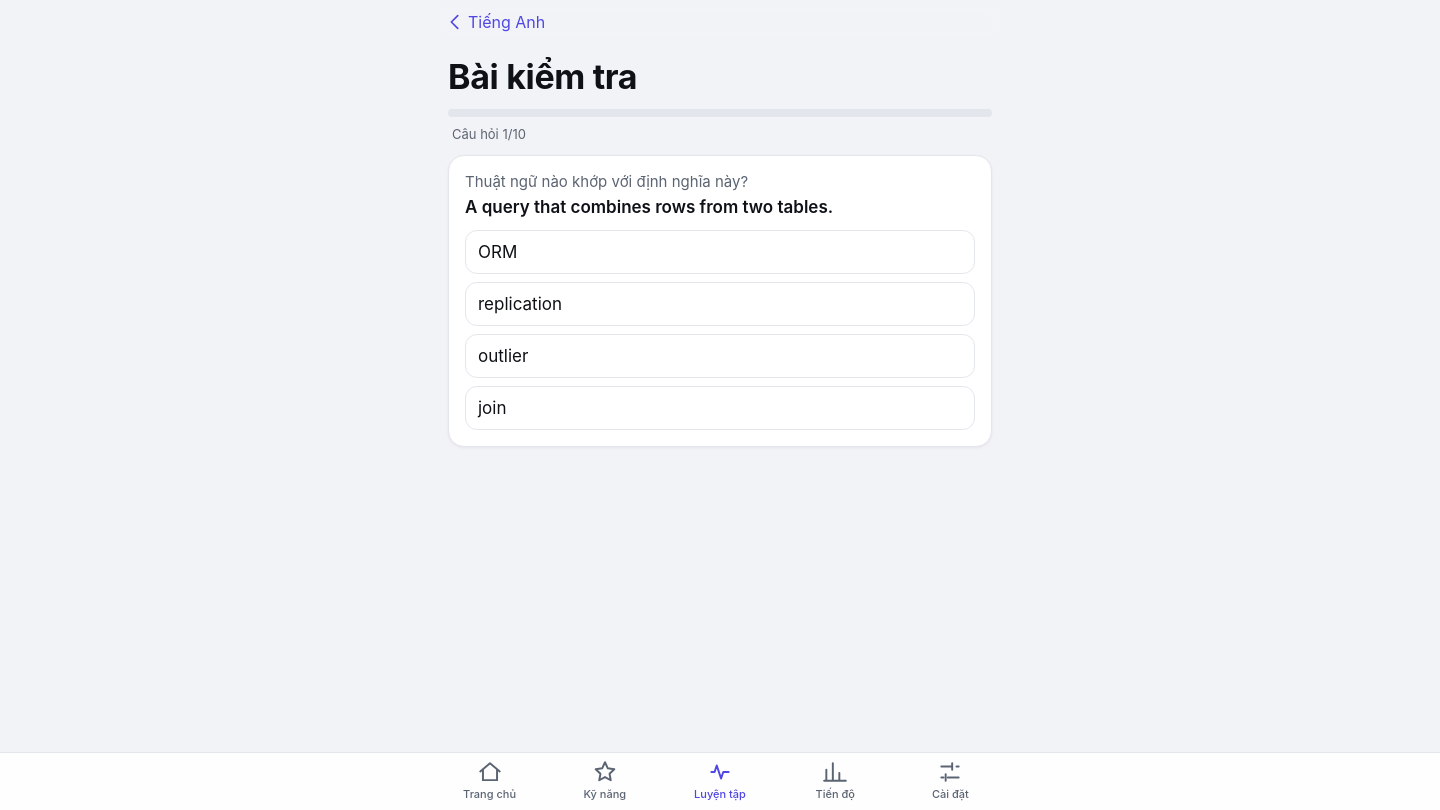
Scenario: English module in Vietnamese › shows the Vietnamese meaning of each option after answering a quiz question
The width and height of the screenshot is (1440, 810).
Expected: the text "Câu hỏi 1/10" is shown, [452,126,526,142]
Click the button "ORM".
click(498, 252)  # box [465,230,975,274]
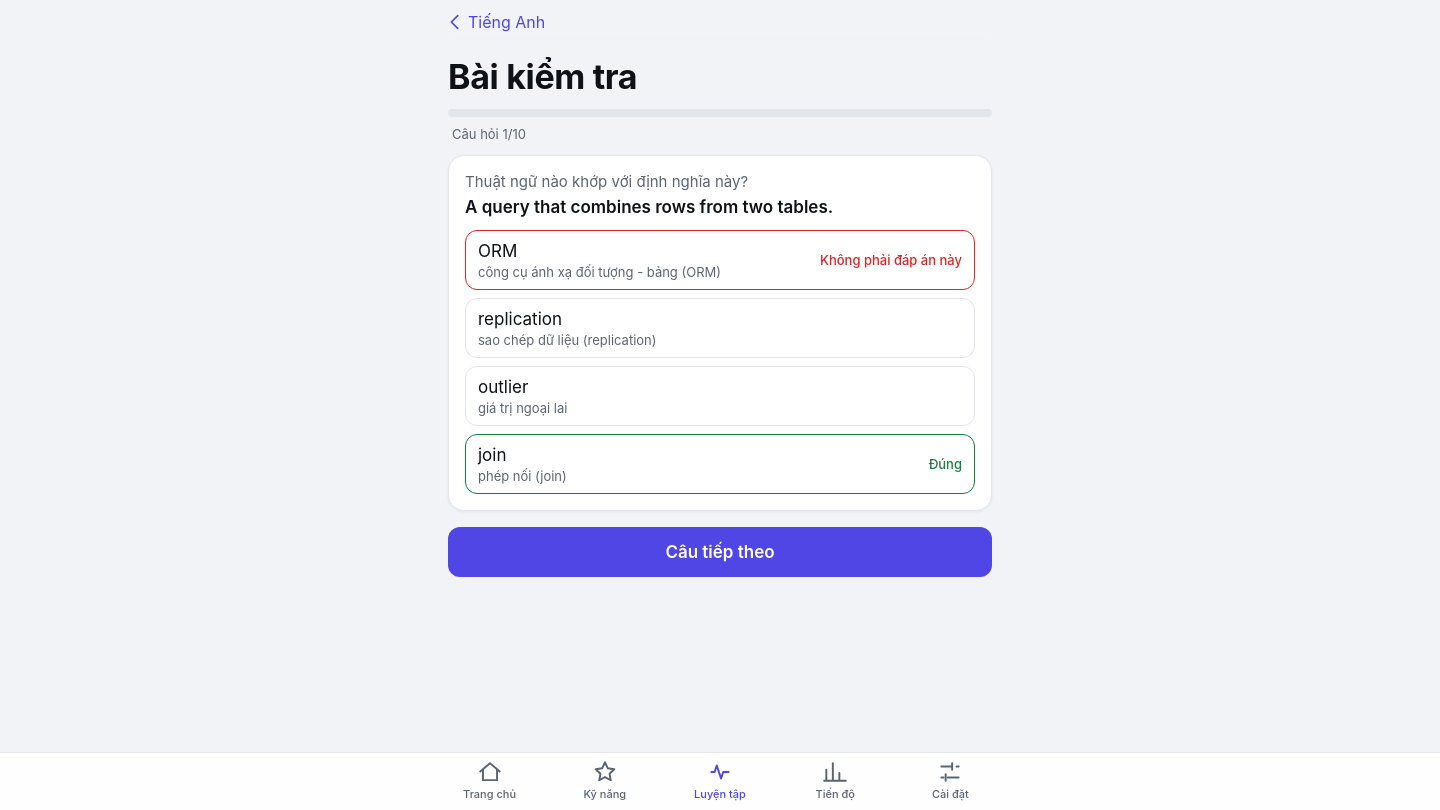
Expected: the button that starts with "ORM" shows "công cụ ánh xạ đối tượng - bảng (ORM)", [465,230,975,290]
